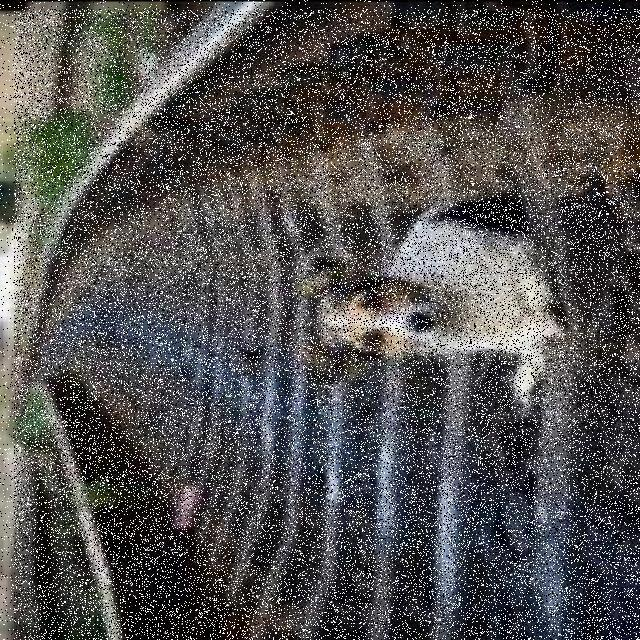danger: (302, 183, 563, 394)
rail: (14, 9, 640, 640)
